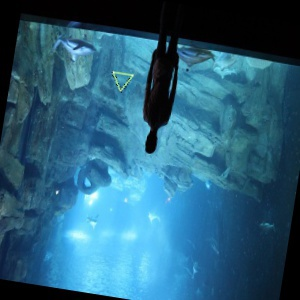triangle: (108, 68, 136, 95)
